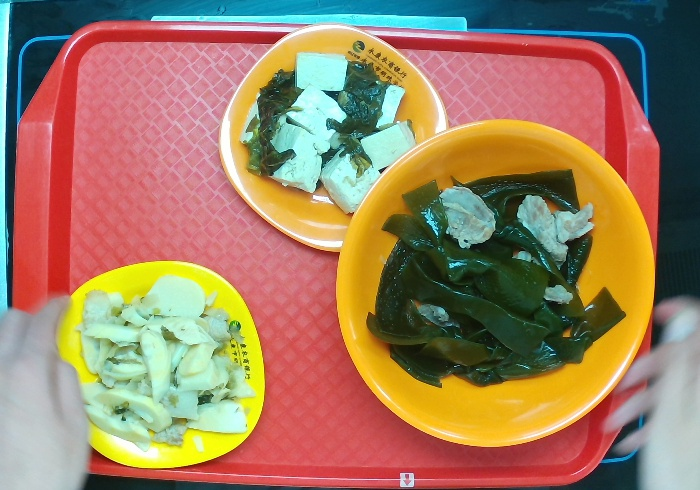YKMZ-Huang_Se_Fang_Die: (64, 260, 266, 471)
YKMZ-Ju_Se_Fang_Die: (220, 25, 447, 256)
YKMZ-Ju_Se_Tang_Wan: (334, 116, 656, 447)
